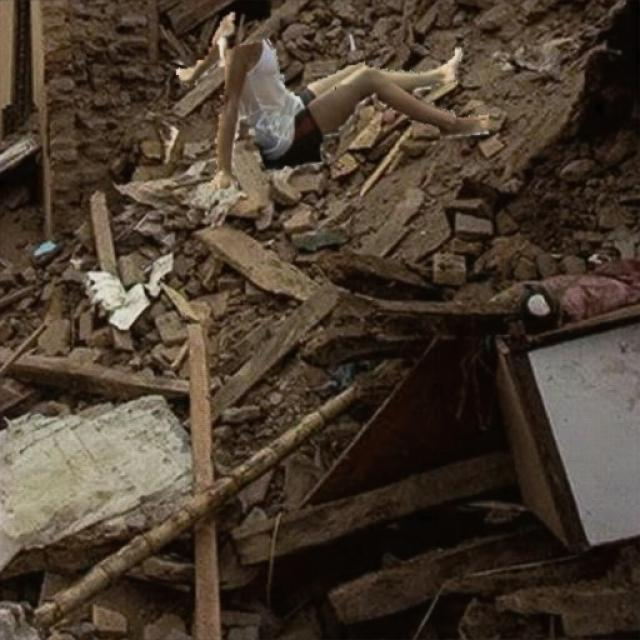Person in Rubble: (177, 12, 488, 188)
